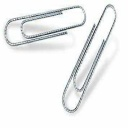Metal: (62, 2, 124, 128), (0, 0, 88, 51)
